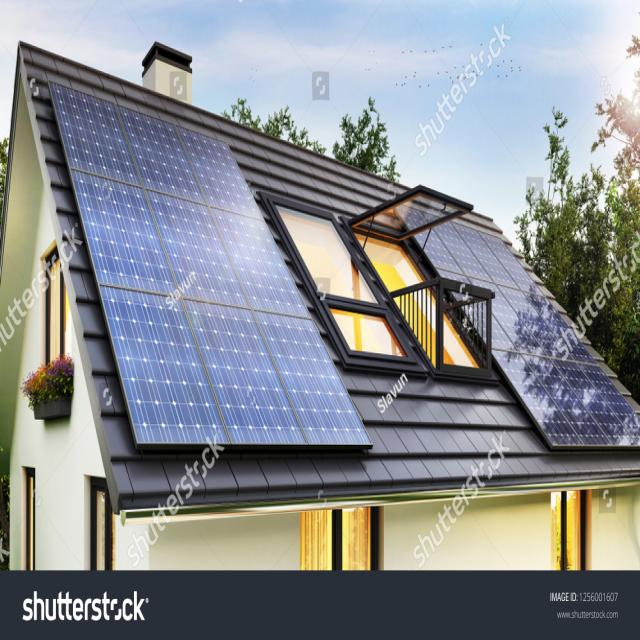clean-solar-panel: (51, 84, 369, 445)
